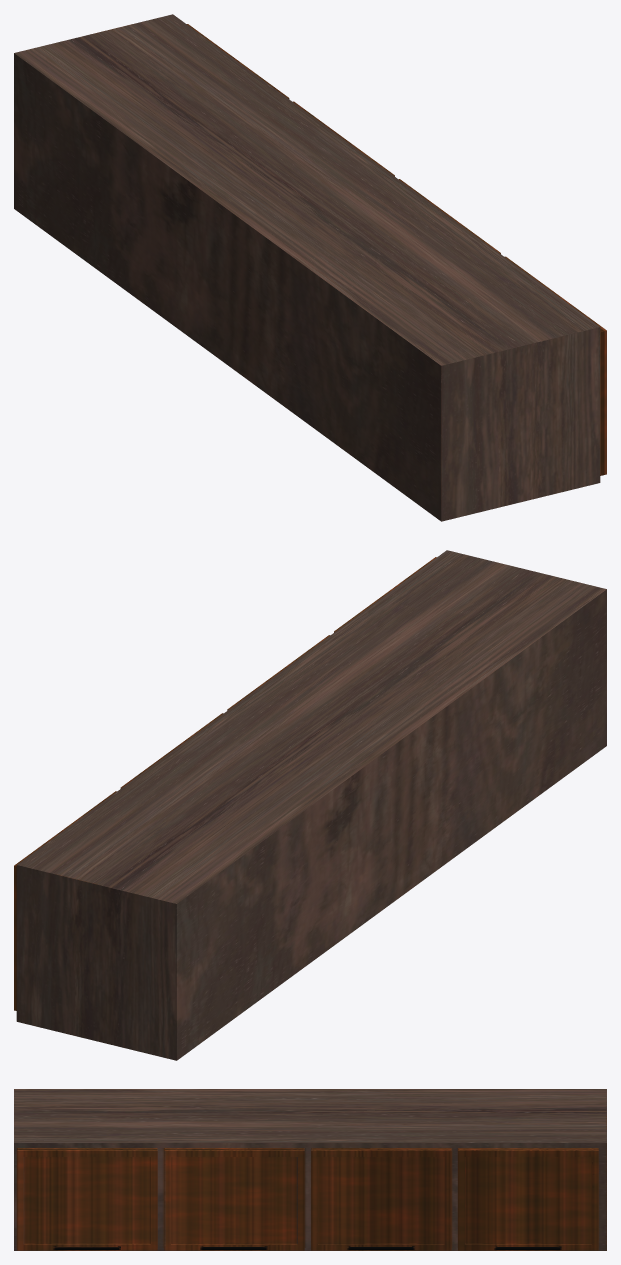
The model's file is oven_Up_OpenGL.obj.
3 renders of one model, top to bottom at view 1: azimuth 30°, elevation 25°; view 2: azimuth 150°, elevation 25°; view 3: azimuth 270°, elevation 25°, orthographic. The views are drawn at different scales.
Visible parts, largest first — view 1: Bake_Up; view 2: Bake_Up; view 3: Bake_Up.
Part boxes in pixels (bbox=[...]): Bake_Up: bbox=[14, 14, 606, 521]; Bake_Up: bbox=[14, 550, 606, 1060]; Bake_Up: bbox=[14, 1089, 606, 1250].
Bounding box in the file's own units: 2.16 × 1.87 × 9.28.
1 material, 1 textured.
